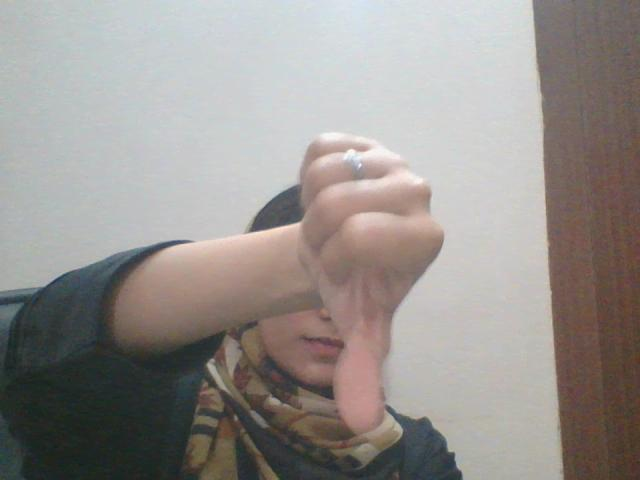thumbs-down: (302, 131, 449, 427)
